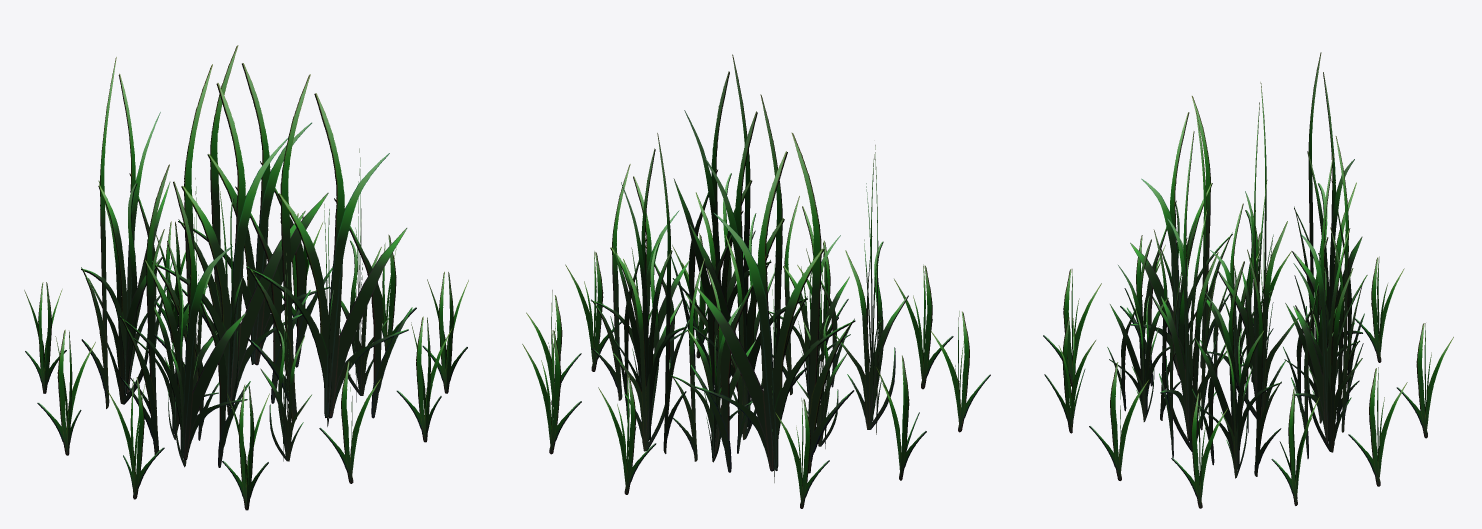
File: Grass01.fbx
The picture shows the model from 3 angles, left to right: view 1: azimuth 30°, elevation 25°; view 2: azimuth 150°, elevation 25°; view 3: azimuth 270°, elevation 25°; orthographic projection. The views are drawn at different scales.
Visible parts, largest first — view 1: Mesh_Grass01; view 2: Mesh_Grass01; view 3: Mesh_Grass01.
Boxes of the visible parts, bbox=[...] form: Mesh_Grass01: bbox=[24, 45, 468, 510]; Mesh_Grass01: bbox=[522, 54, 990, 508]; Mesh_Grass01: bbox=[1043, 52, 1453, 508].
Size of the model in its own units: 0.1702 by 0.1443 by 0.1615.
1 material, 1 textured.
